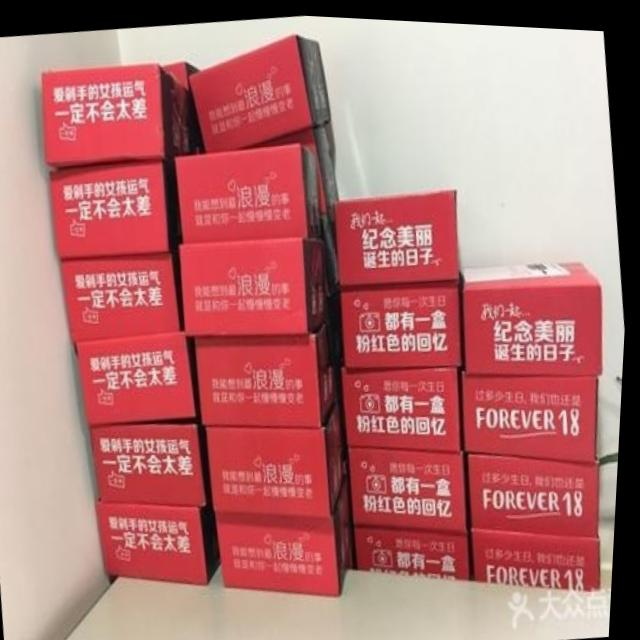box: (188, 31, 331, 151), (221, 470, 360, 592), (210, 398, 353, 514), (463, 255, 605, 368), (197, 314, 342, 424), (42, 63, 191, 169), (176, 140, 325, 240), (182, 235, 328, 332), (51, 159, 181, 257), (64, 240, 189, 341), (466, 366, 602, 457), (336, 185, 461, 280), (79, 331, 205, 424), (94, 412, 217, 504), (100, 494, 227, 582), (344, 275, 464, 364), (473, 449, 603, 530), (346, 360, 465, 447), (352, 444, 473, 528), (476, 523, 606, 586), (358, 522, 474, 575)
